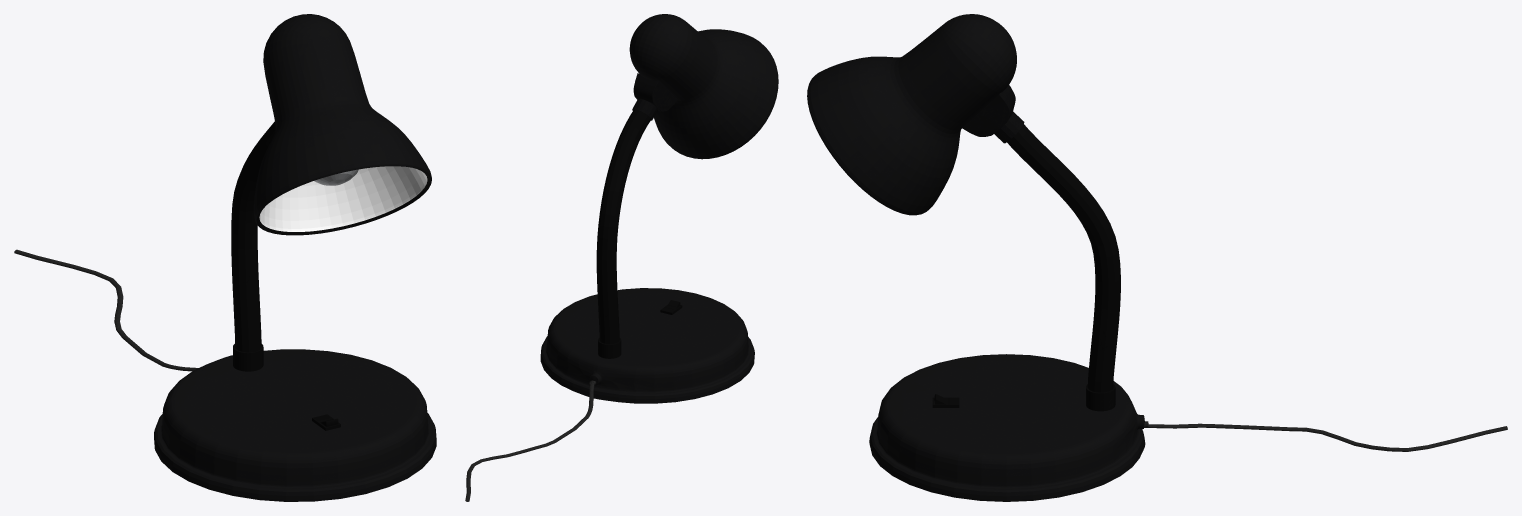
3 views of the same model, side by side, from view 1: azimuth 30°, elevation 25°; view 2: azimuth 150°, elevation 25°; view 3: azimuth 270°, elevation 25° (orthographic). The views are drawn at different scales.
Parts seen in each view (by area): view 1: Cylinder_LampBase_0, Lampshade_Shade_0, Lampshade_ShadeInside_0, LPCurve_Material.004_0, BezierCurve_Wire_0, Cylinder.002_StandHold_0; view 2: Cylinder_LampBase_0, Lampshade_Shade_0, LPCurve_Material.004_0, Cube.002_Connector_0, BezierCurve_Wire_0, Cylinder.002_StandHold_0; view 3: Cylinder_LampBase_0, Lampshade_Shade_0, LPCurve_Material.004_0, Cube.002_Connector_0, BezierCurve_Wire_0.
Part boxes in pixels (x1=…): Cylinder_LampBase_0: x1=154, y1=349, x2=436, y2=501; Lampshade_Shade_0: x1=254, y1=14, x2=431, y2=235; Lampshade_ShadeInside_0: x1=259, y1=166, x2=427, y2=231; LPCurve_Material.004_0: x1=231, y1=121, x2=275, y2=352; BezierCurve_Wire_0: x1=14, y1=249, x2=198, y2=371; Cylinder.002_StandHold_0: x1=233, y1=344, x2=263, y2=371; Cylinder_LampBase_0: x1=540, y1=288, x2=754, y2=403; Lampshade_Shade_0: x1=629, y1=14, x2=778, y2=159; LPCurve_Material.004_0: x1=596, y1=109, x2=651, y2=344; Cube.002_Connector_0: x1=632, y1=73, x2=677, y2=120; BezierCurve_Wire_0: x1=465, y1=382, x2=594, y2=501; Cylinder.002_StandHold_0: x1=598, y1=338, x2=621, y2=358; Cylinder_LampBase_0: x1=869, y1=354, x2=1145, y2=501; Lampshade_Shade_0: x1=807, y1=14, x2=1016, y2=215; LPCurve_Material.004_0: x1=1007, y1=124, x2=1120, y2=392; Cube.002_Connector_0: x1=962, y1=85, x2=1024, y2=143; BezierCurve_Wire_0: x1=1144, y1=423, x2=1507, y2=451.
Size of the model in its own units: 1.95 by 3.33 by 4.98.
11 materials, 11 textured.
